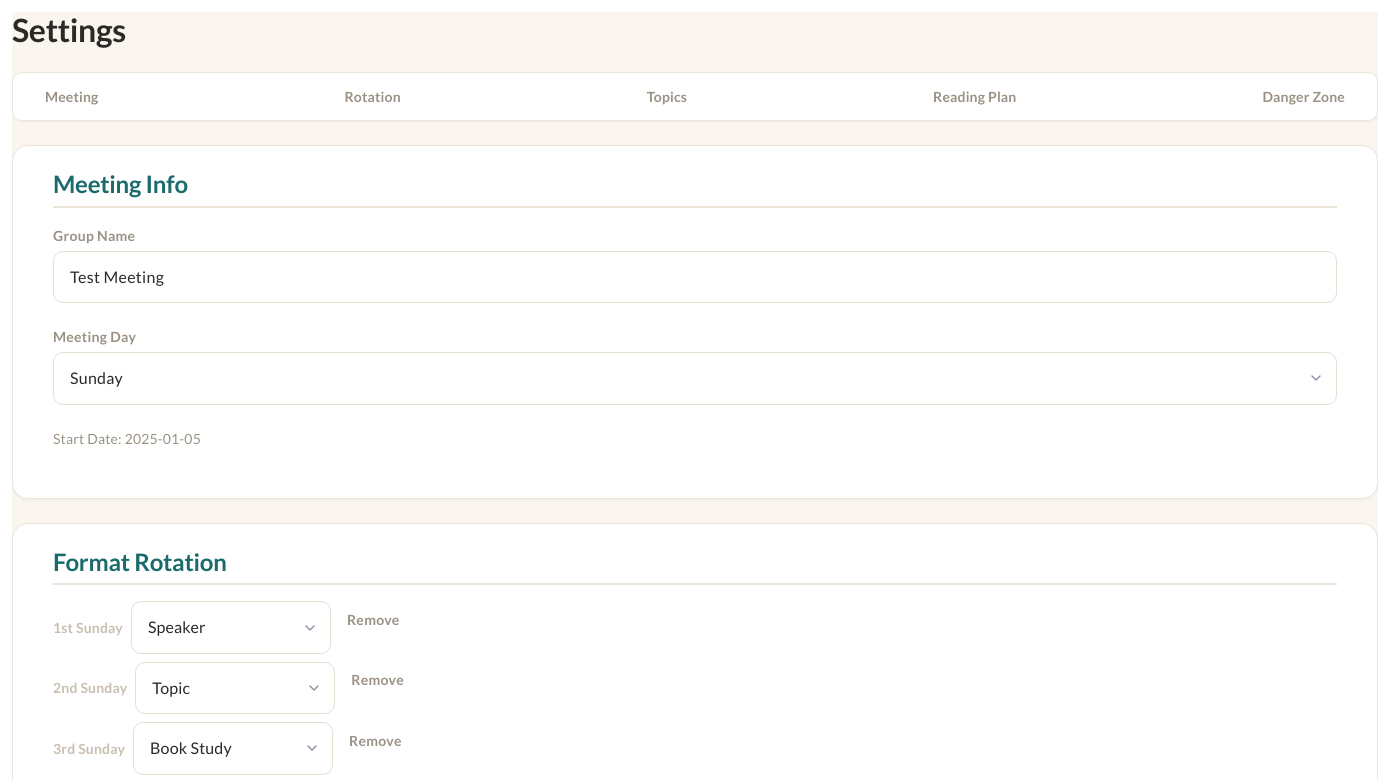
Test: Settings › reverts changes on discard
Replace the text in the field labelled "Group Name" with "Changed Name" at (695, 277), box [53,251,1337,303]
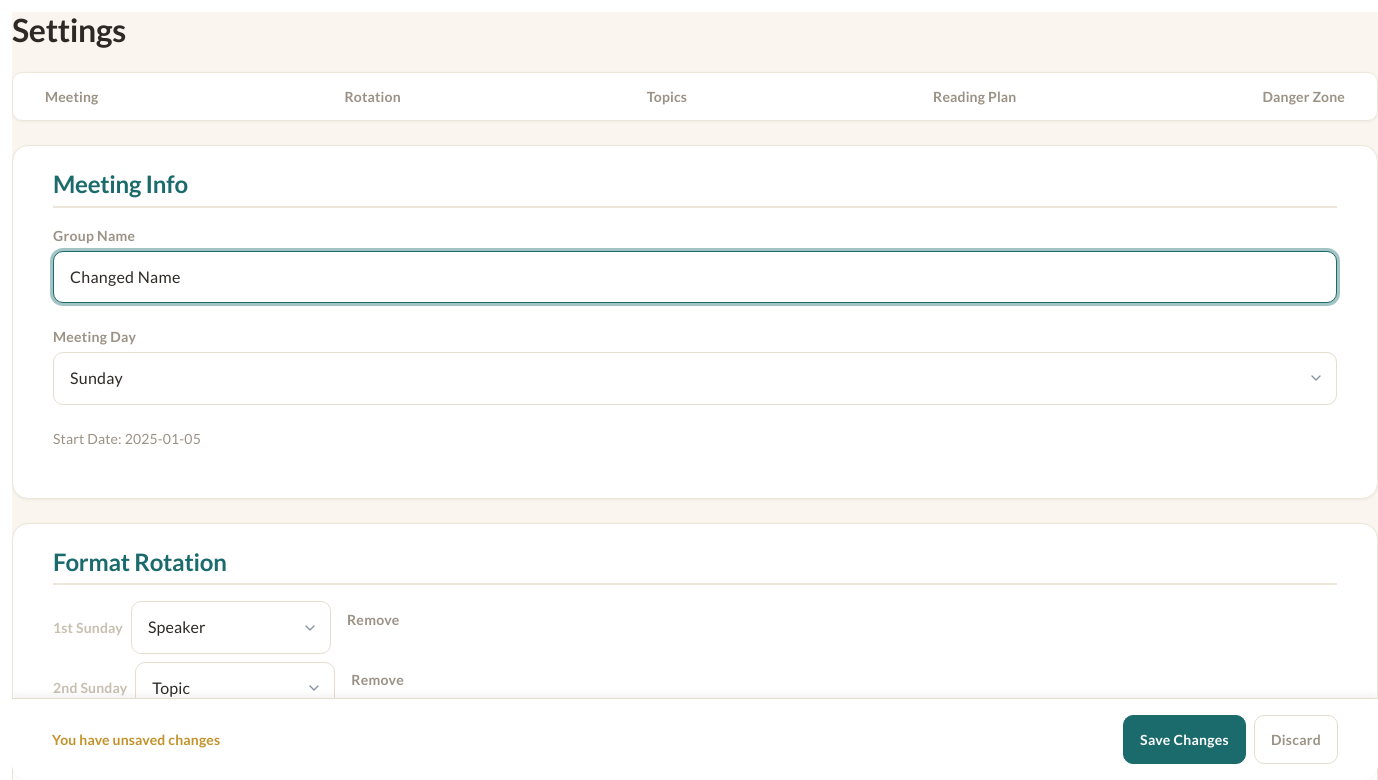
Click the button "Discard" at (1296, 739), box [1254,715,1338,764]
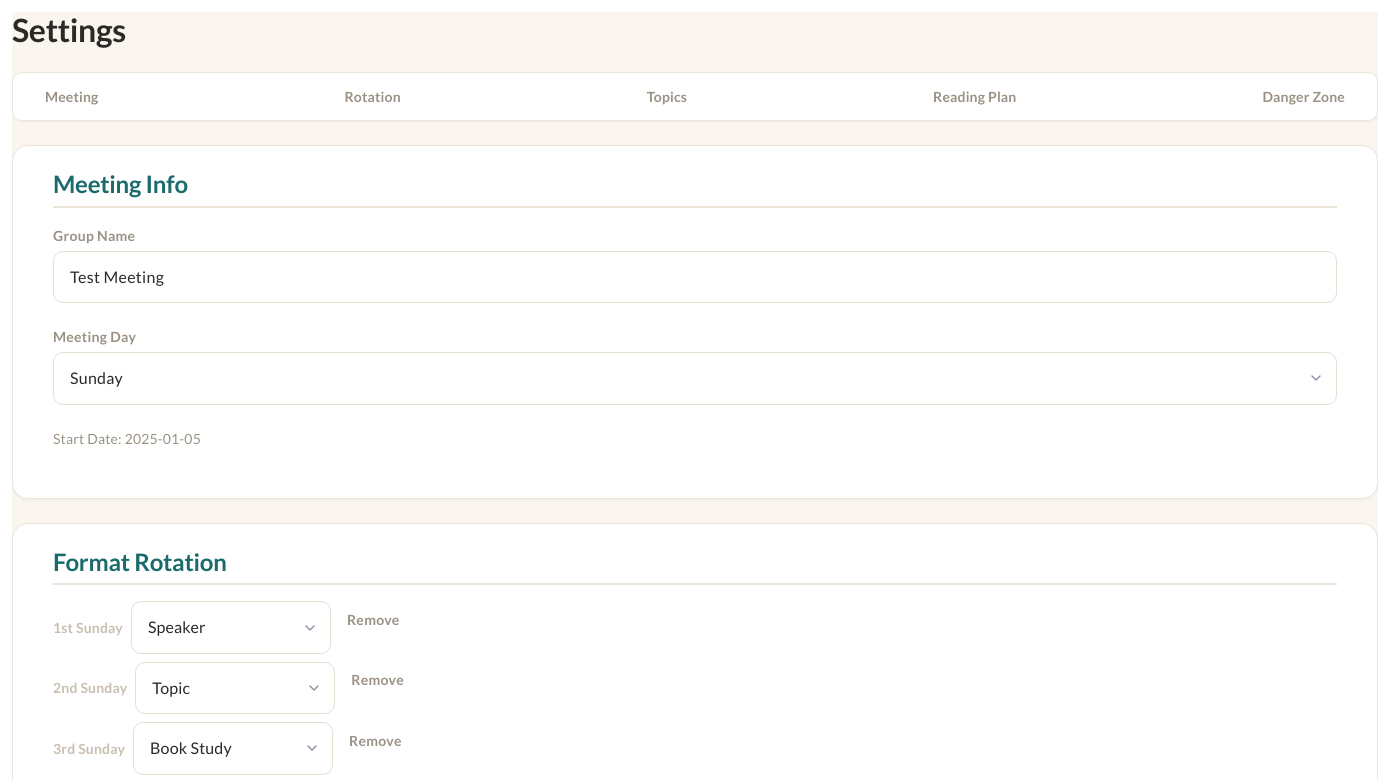
Result: the field showing "Test Meeting" is shown at [53,251,1337,303]
Result: the text "You have unsaved changes" is gone
